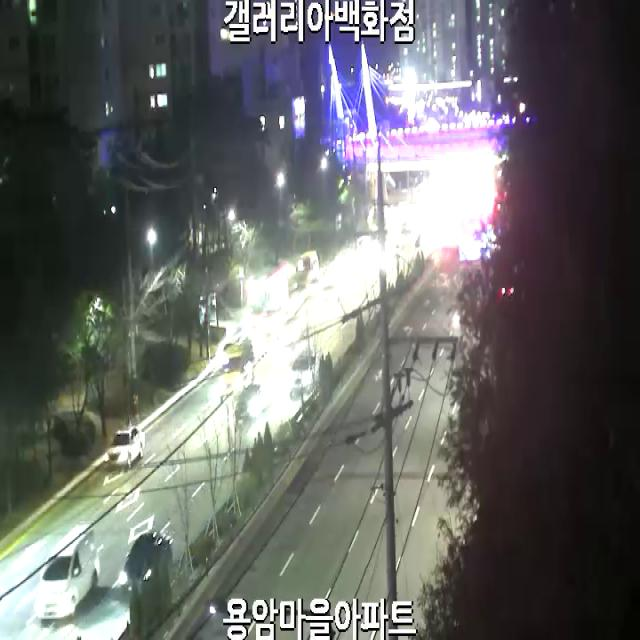Car: (34, 525, 100, 619), (121, 535, 172, 592), (103, 426, 145, 468), (290, 349, 320, 394), (297, 250, 320, 283)
